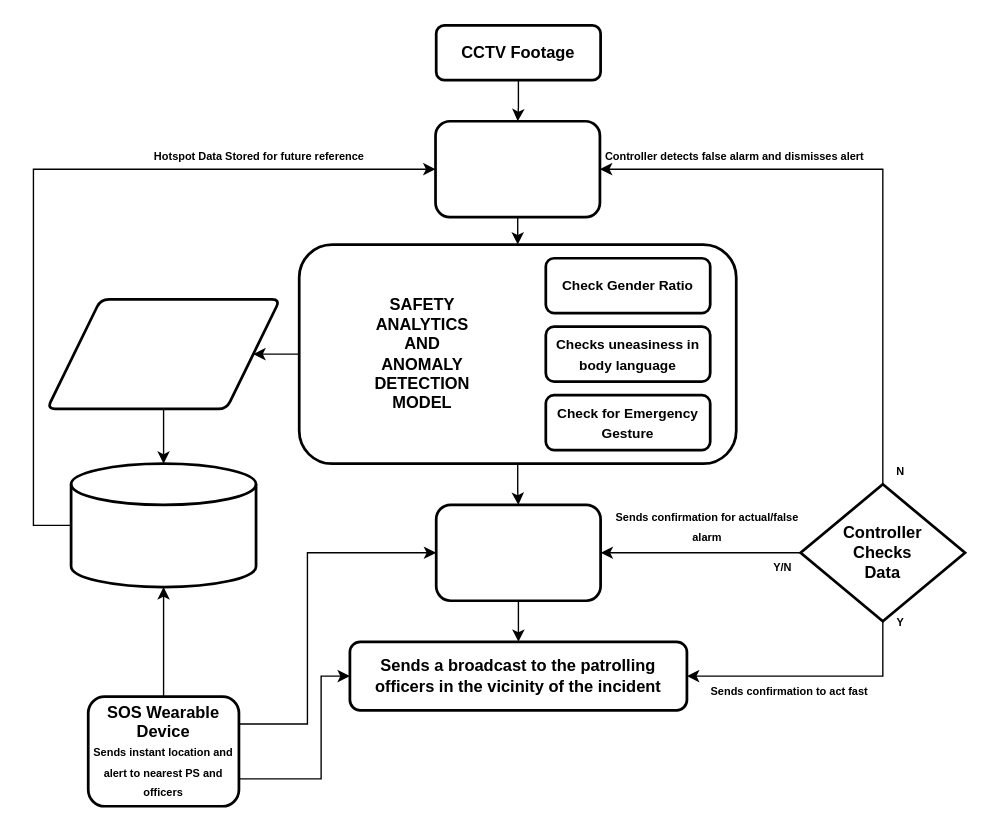
This 991x830 diagram has some shape labels left out. Here are the shapes that lost their labels. From the top down, the centre of each, then its label:
At point (517, 168): "CONTROL UNITS Main system present in CCTV control room".
At point (163, 353): "Generated Data to be stored in the Database".
At point (163, 525): "Hotspot Data stored in Database".
At point (517, 552): "Nearest Police Sation Notified".
